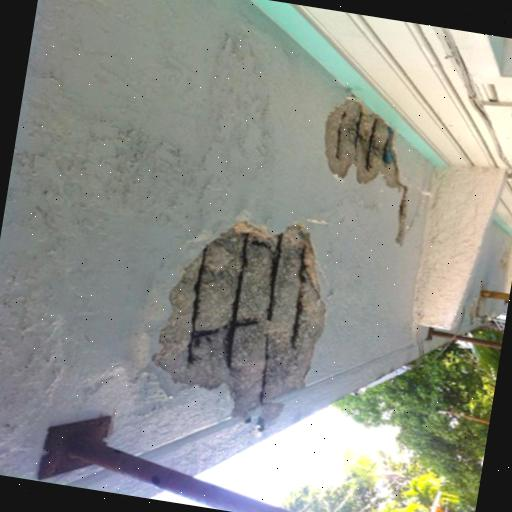spalling: (154, 214, 329, 430)
